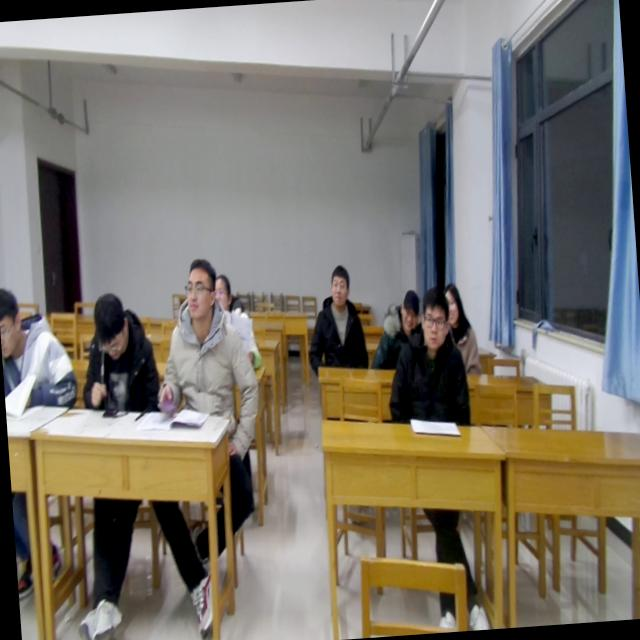bow: (0, 282, 81, 418)
down: (88, 288, 133, 367), (0, 281, 25, 358)
lookup: (180, 253, 222, 323), (418, 278, 450, 354), (324, 259, 353, 313), (392, 288, 423, 332), (440, 276, 466, 324), (208, 267, 232, 309)
sit: (146, 256, 260, 418), (381, 285, 476, 428), (75, 289, 160, 422), (300, 263, 369, 375), (213, 269, 263, 373), (365, 288, 426, 372), (442, 278, 481, 378)
